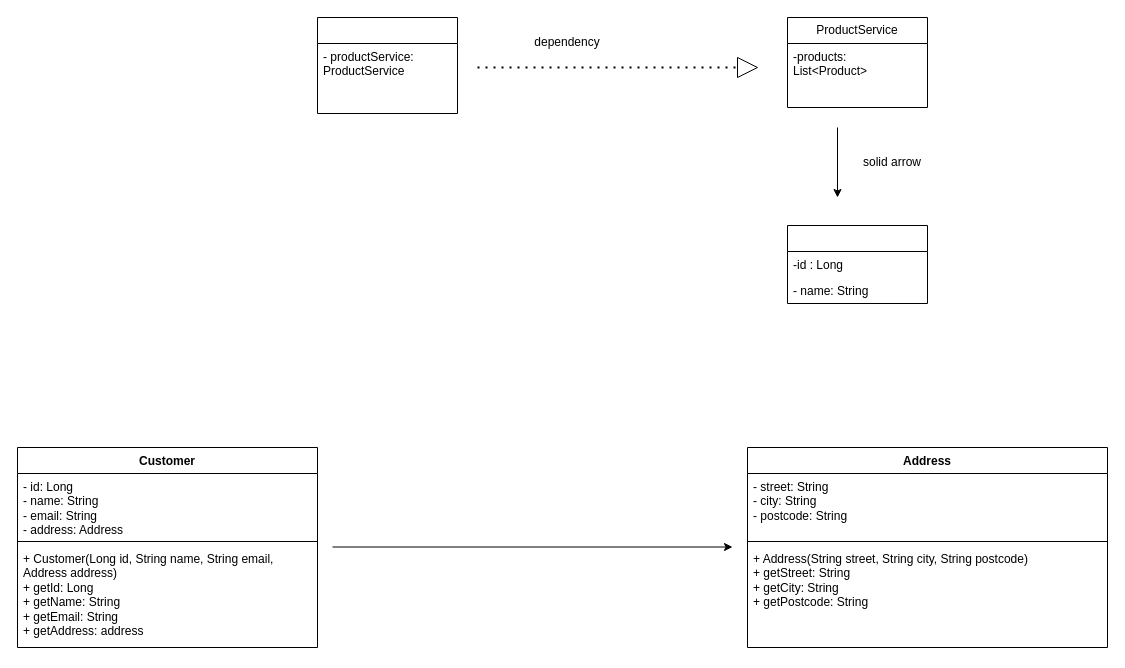
Some shapes in this 1125 by 668 pixel diagram are drawn without their labels. The box of each missing label's shape, as (x1, y1, x2, y2) in pixels:
Product: (786, 224, 928, 304)
ProductController: (316, 16, 458, 114)
